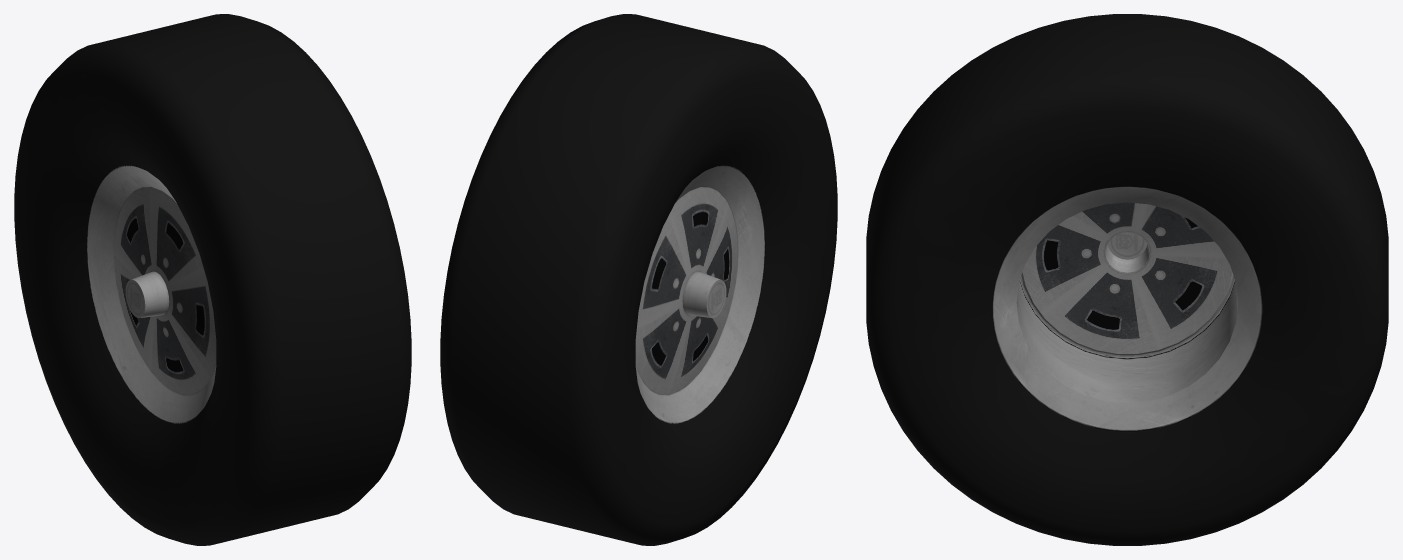
The model's file is tyre.glb.
3 renders of one model, left to right at view 1: azimuth 30°, elevation 25°; view 2: azimuth 150°, elevation 25°; view 3: azimuth 270°, elevation 25°, orthographic.
Parts seen in each view (by area): view 1: Tyre_Rim_LP_ready; view 2: Tyre_Rim_LP_ready; view 3: Tyre_Rim_LP_ready.
Part boxes in pixels (x1,y1,x2,y2): Tyre_Rim_LP_ready: (14, 14, 411, 545); Tyre_Rim_LP_ready: (440, 14, 837, 545); Tyre_Rim_LP_ready: (866, 14, 1388, 545).
Bounding box in the file's own units: 24.91 × 68.82 × 68.82.
Materials: 1 (1 with a texture image).
